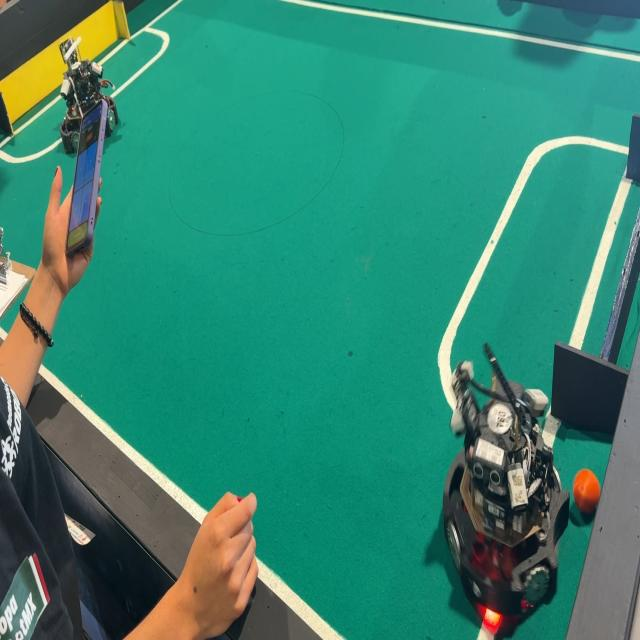Robot: (439, 352, 562, 608), (47, 22, 132, 161)
pelota: (571, 466, 599, 520)
